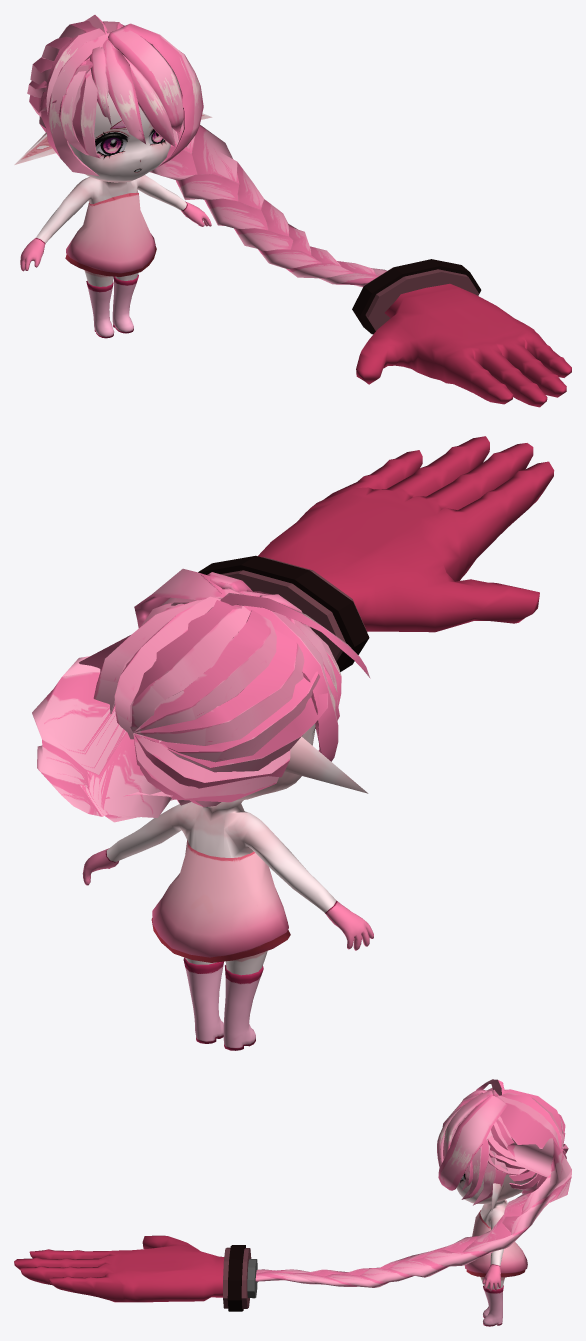
The model's file is red_w_2.fbx.
The picture shows the model from 3 angles, top to bottom: view 1: azimuth 30°, elevation 25°; view 2: azimuth 150°, elevation 25°; view 3: azimuth 270°, elevation 25°; orthographic projection. The views are drawn at different scales.
Visible parts, largest first — view 1: polySurface13, pasted__polySurface6, mituami, polySurface11, polySurface12, side_backShape, polySurface14, polySurface10, polySurface15, pasted__pCone2; view 2: polySurface13, side_backShape, mituami, polySurface12, polySurface11, pasted__polySurface6, polySurface10, polySurface15, polySurface14, pasted__pCone2; view 3: polySurface13, mituami, pasted__polySurface6, side_backShape, polySurface11, polySurface12, polySurface15, polySurface14, polySurface10, polySurface16.
Part boxes in pixels (x1,y1,x2,y2): polySurface13: [356, 283, 571, 407]; pasted__polySurface6: [40, 23, 203, 176]; mituami: [150, 124, 386, 287]; polySurface11: [20, 93, 211, 286]; polySurface12: [65, 192, 156, 276]; side_backShape: [27, 15, 124, 132]; polySurface14: [365, 267, 478, 330]; polySurface10: [86, 274, 138, 338]; polySurface15: [352, 259, 481, 334]; pasted__pCone2: [14, 113, 212, 164]; polySurface13: [258, 436, 554, 632]; side_backShape: [79, 596, 327, 807]; mituami: [32, 656, 173, 822]; polySurface12: [151, 840, 290, 962]; polySurface11: [82, 723, 373, 975]; pasted__polySurface6: [134, 568, 370, 761]; polySurface10: [183, 957, 263, 1050]; polySurface15: [198, 555, 369, 671]; polySurface14: [221, 557, 366, 661]; pasted__pCone2: [285, 736, 368, 793]; polySurface13: [14, 1235, 224, 1302]; mituami: [255, 1138, 571, 1287]; pasted__polySurface6: [437, 1079, 507, 1205]; side_backShape: [487, 1089, 568, 1193]; polySurface11: [456, 1172, 528, 1291]; polySurface12: [464, 1210, 527, 1277]; polySurface15: [227, 1245, 245, 1311]; polySurface14: [223, 1247, 251, 1308]; polySurface10: [483, 1285, 503, 1326]; polySurface16: [247, 1259, 257, 1298].
Size of the model in its own units: 17.04 by 16.93 by 37.11.
Materials: 11 (7 with a texture image).
